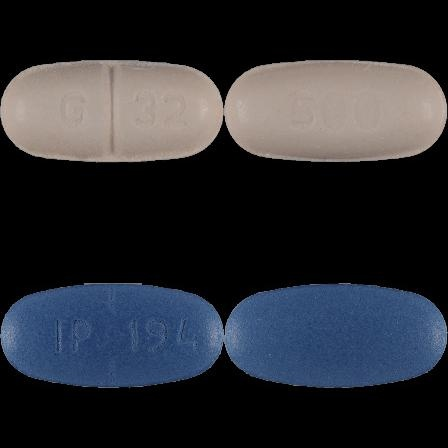66267-153: (0, 0, 224, 224)
